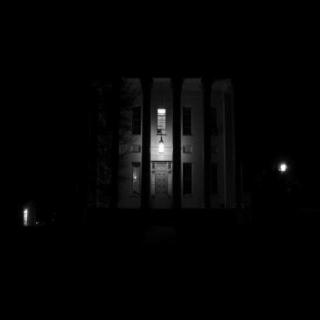other: (156, 138, 166, 160)
